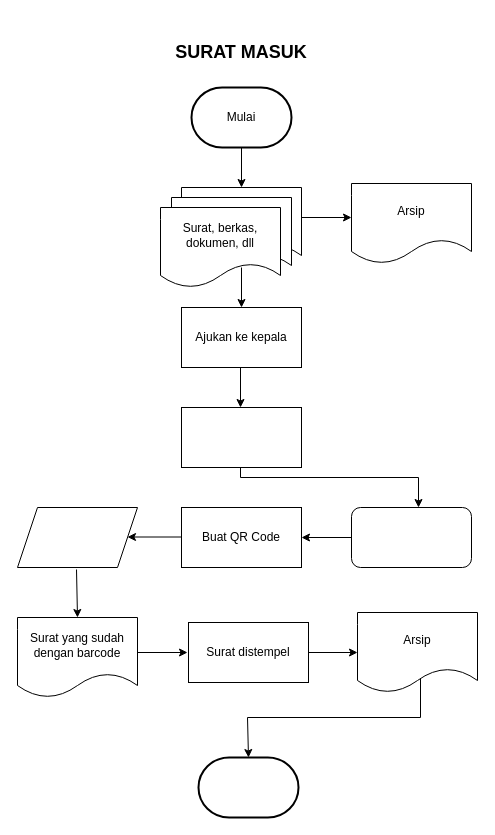
This 495x835 diagram has some shape labels left out. Here are the shapes that lost their labels. From the top down, the centre of each, then its label:
At (241,437): "Pendisposisian surat".
At (77,537): "Masukkan URL Surat".
At (411,537): "Penjawaban".
At (248,787): "Selesai".
